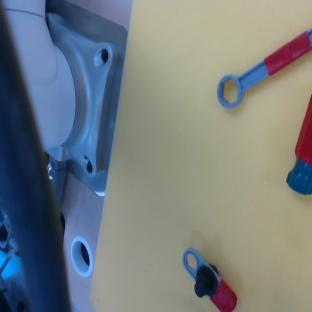part_1_good: (171, 242, 243, 312)
part_2_good: (286, 94, 312, 194)
